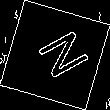N_SW: (23, 25, 87, 85)
